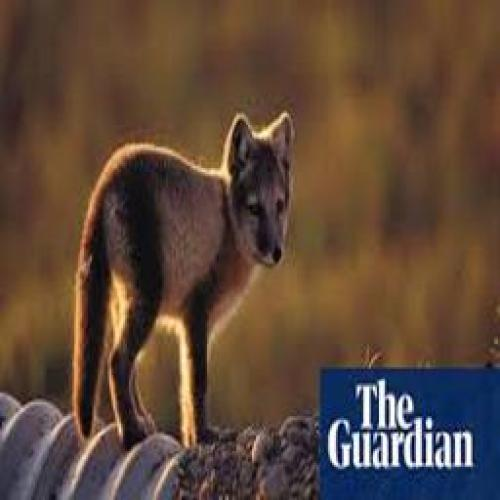arctic_fox-endangered: (69, 111, 293, 449)
